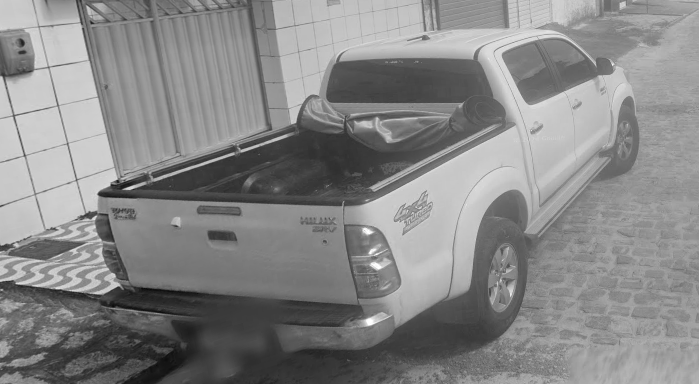car: (89, 24, 643, 347)
